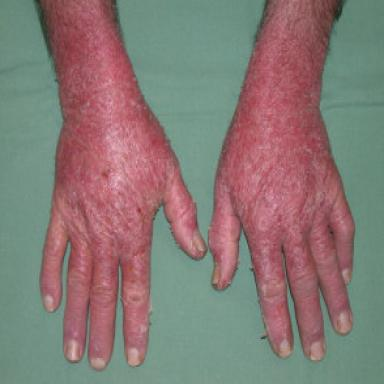eczema: (42, 0, 205, 341), (209, 3, 350, 281)
